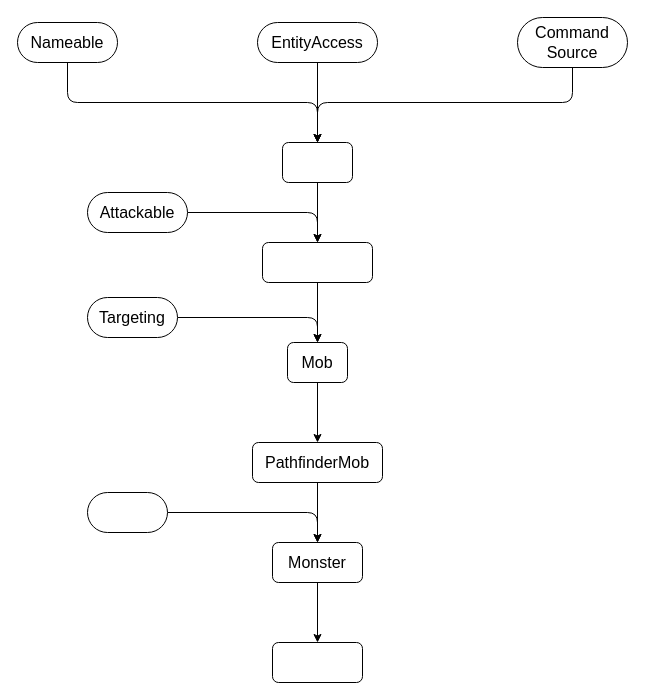
Image size: 645x700. Some labels were removed from this diagram. Each missing label, with the box of its shape:
Enemy: (86, 492, 168, 532)
Entity: (282, 142, 352, 182)
LivingEntity: (262, 242, 372, 282)
Zombie: (272, 642, 362, 682)
